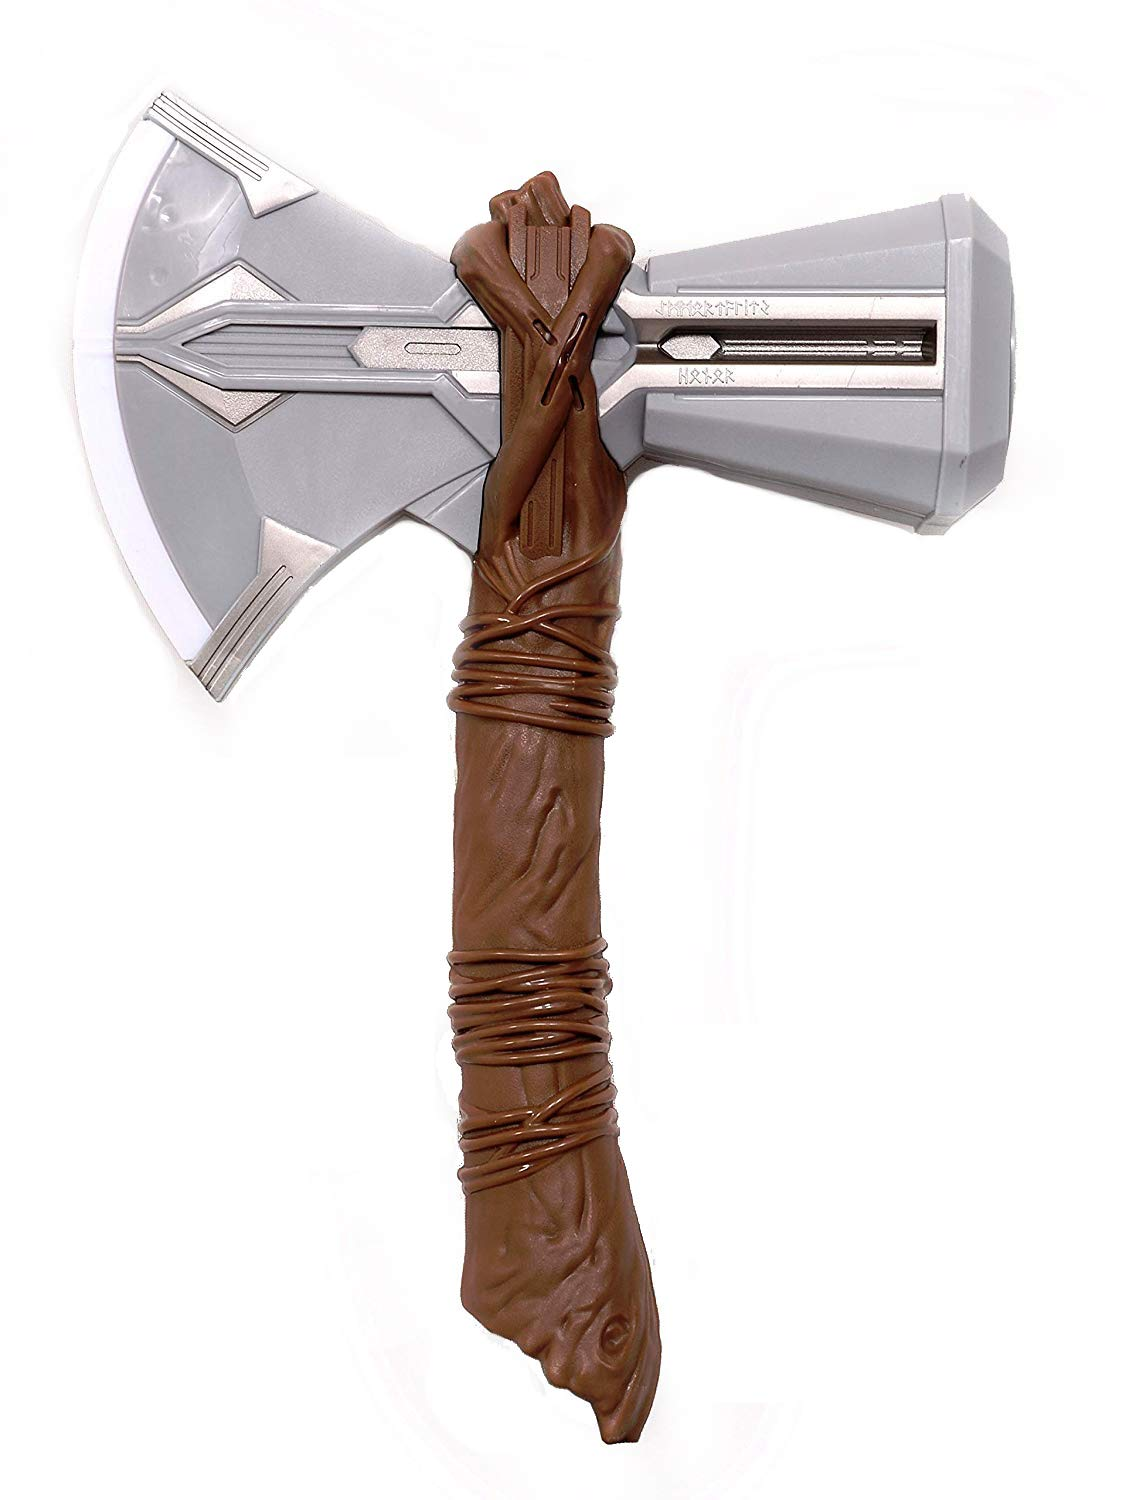THOR Hammer: (67, 54, 1031, 1339), (666, 925, 767, 1027)
